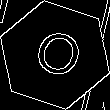O_S: (25, 24, 85, 86)
